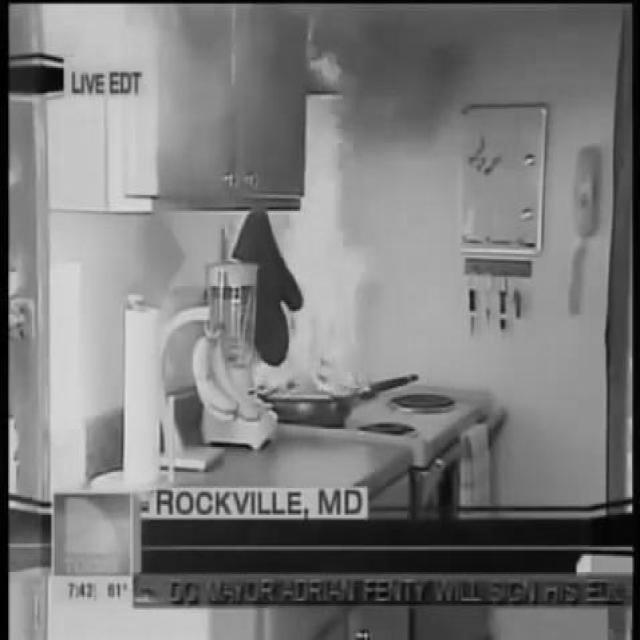fire: (9, 6, 278, 192)
smoke: (237, 91, 378, 397)
